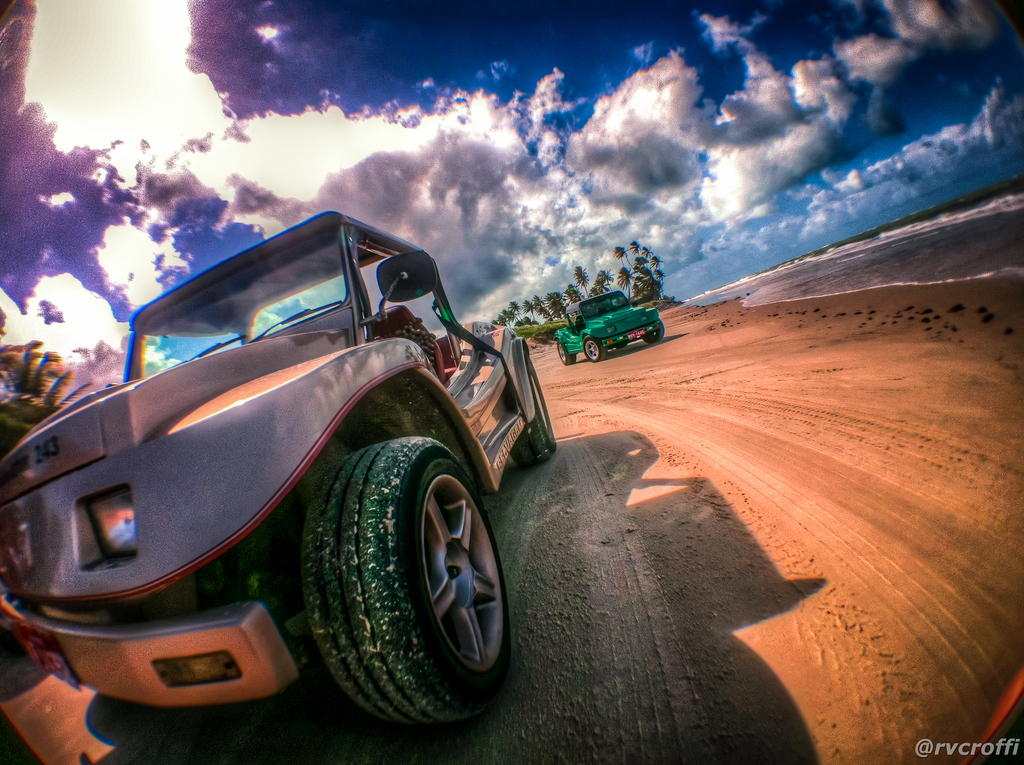Car: (17, 196, 536, 736), (548, 291, 662, 356)
